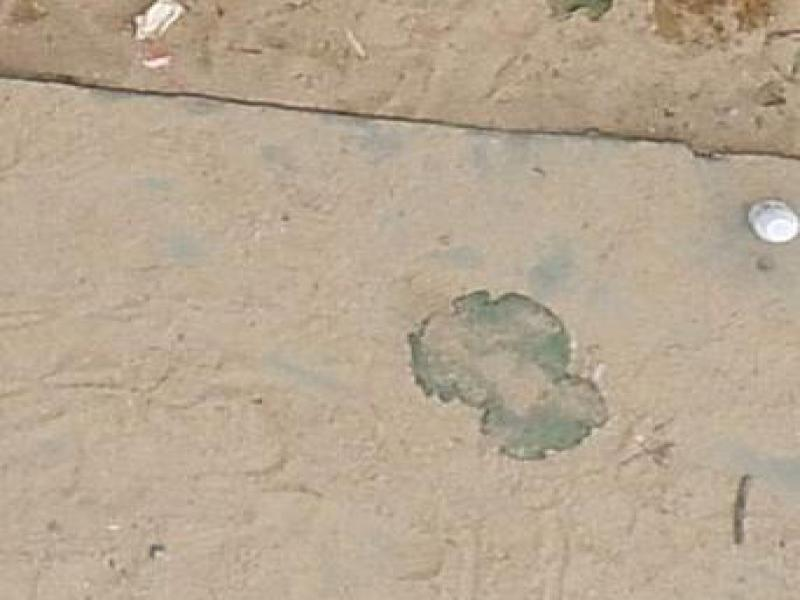bottle: (742, 193, 798, 258)
